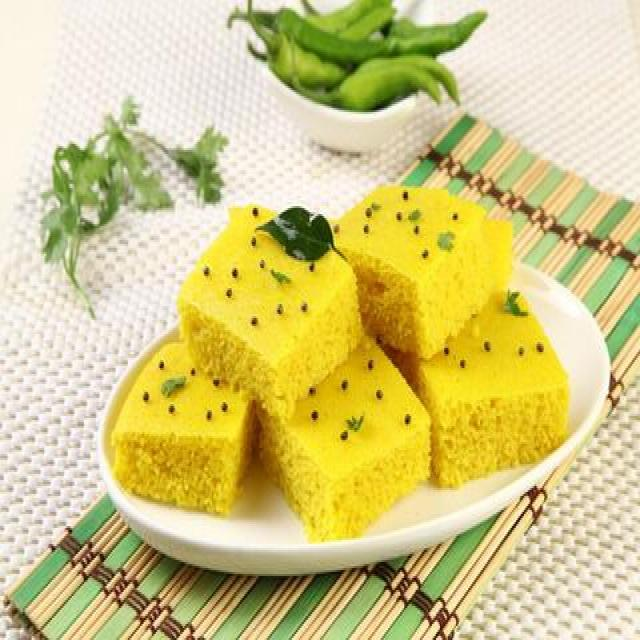dhokla: (115, 195, 570, 518)
